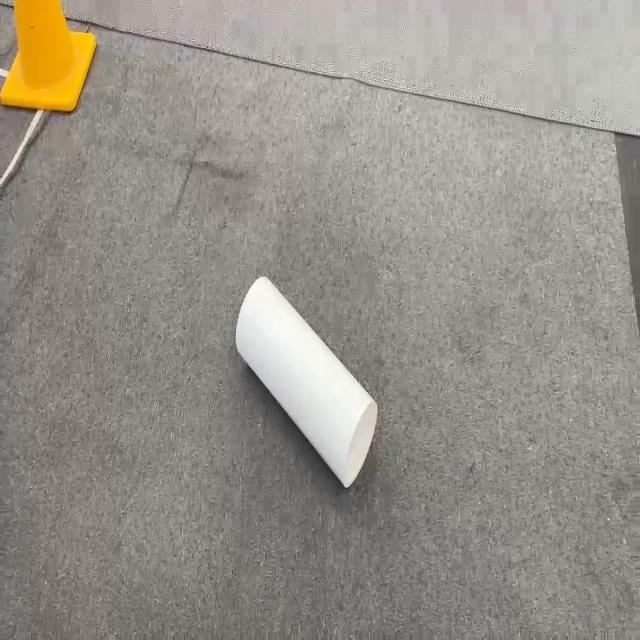coral: (234, 274, 378, 489)
